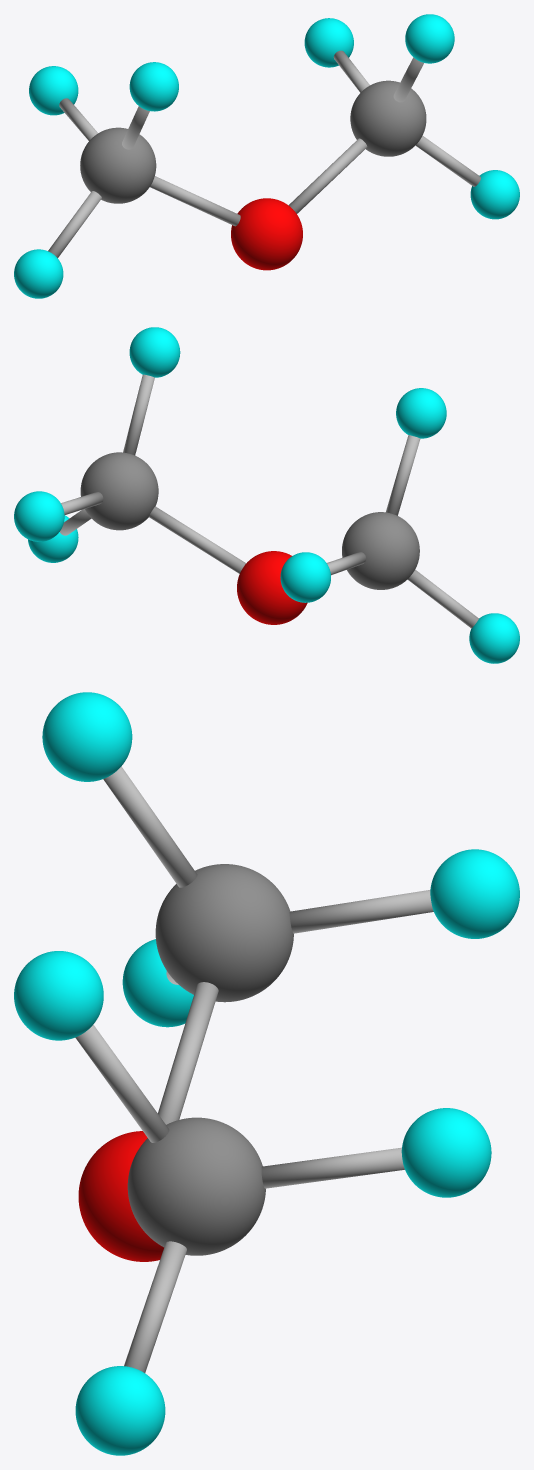
The model's file is dimethyl ether.glb.
The picture shows the model from 3 angles, top to bottom: view 1: azimuth 30°, elevation 25°; view 2: azimuth 150°, elevation 25°; view 3: azimuth 270°, elevation 25°; orthographic projection. The views are drawn at different scales.
Visible parts, largest first — view 1: CMAtom_0; view 2: CMAtom_0; view 3: CMAtom_0.
Part boxes in pixels (x1,y1,x2,y2): CMAtom_0: (14,14,519,298); CMAtom_0: (14,327,519,663); CMAtom_0: (14,692,519,1455).
Bounding box in the file's own units: 0.4545 × 0.2191 × 0.2253.
